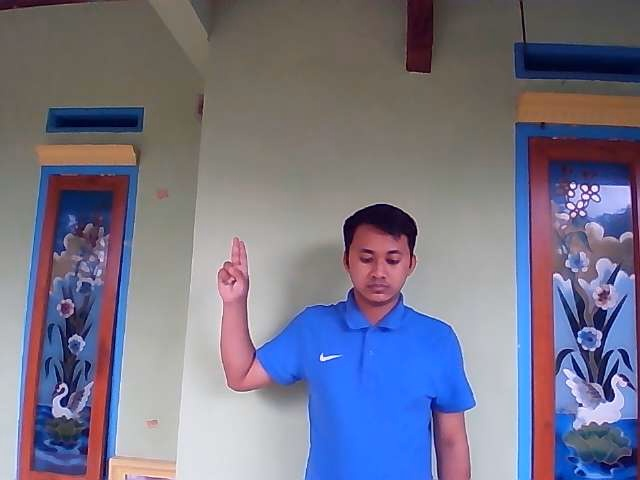U: (216, 236, 250, 300)
